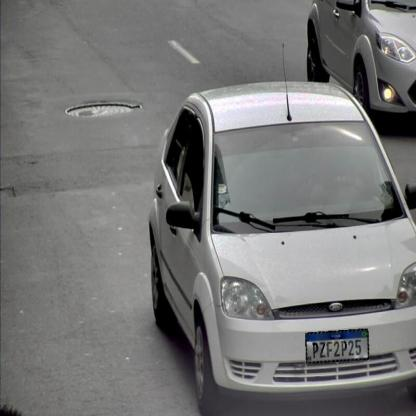PlacaM: (305, 329, 369, 363)
